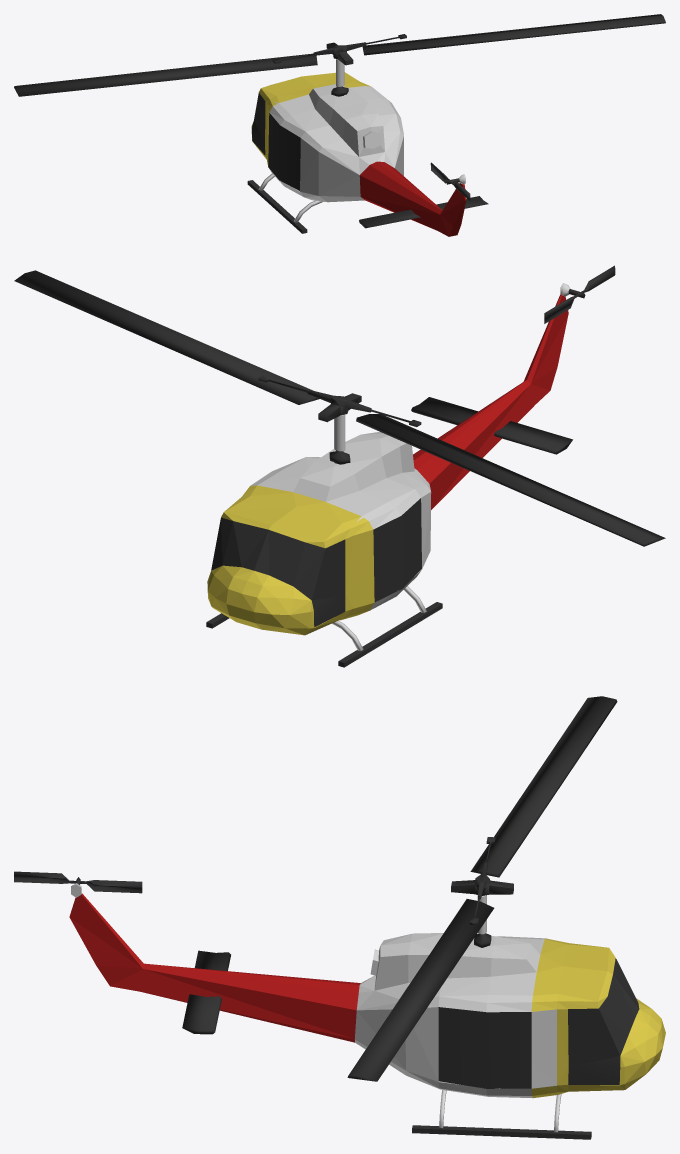
Rendered from helicopter_-_low_poly.glb.
3 views of the same model, one above another, from view 1: azimuth 30°, elevation 25°; view 2: azimuth 150°, elevation 25°; view 3: azimuth 270°, elevation 25° (orthographic). The views are drawn at different scales.
Visible parts, largest first — view 1: Object_3, Object_6, Object_2, Object_5, Object_4; view 2: Object_3, Object_5, Object_6, Object_2, Object_4; view 3: Object_3, Object_6, Object_2, Object_5, Object_4.
Part boxes in pixels (x1,y1,x2,y2): Object_3: (14,14,665,228); Object_6: (258,84,465,222); Object_2: (359,161,466,236); Object_5: (251,72,370,166); Object_4: (247,180,307,233); Object_3: (14,265,665,627); Object_5: (207,485,374,635); Object_6: (250,283,570,651); Object_2: (413,294,568,509); Object_4: (206,602,442,667); Object_3: (14,696,639,1088); Object_6: (71,883,561,1132); Object_2: (69,893,360,1042); Object_5: (531,938,665,1097); Object_4: (412,1125,591,1139).
Bounding box in the file's own units: 946 × 252 × 679.
